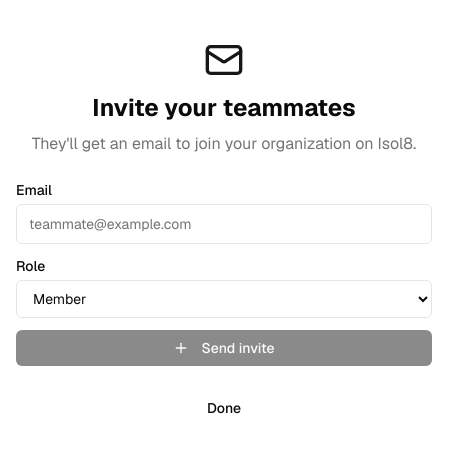
Test: InviteTeammatesStep › surfaces a string detail (Clerk error forwarded by backend)
The image size is (449, 460).
Type "dup@example.com" into the field labelled "Email". click: (224, 224)
box: [16,204,432,244]
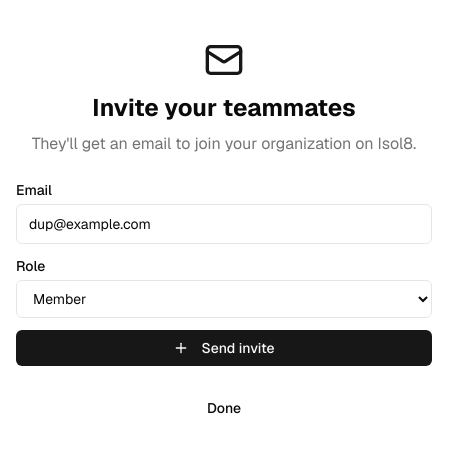
Click the button "Send invite". click: (224, 348)
box: [16,330,432,366]
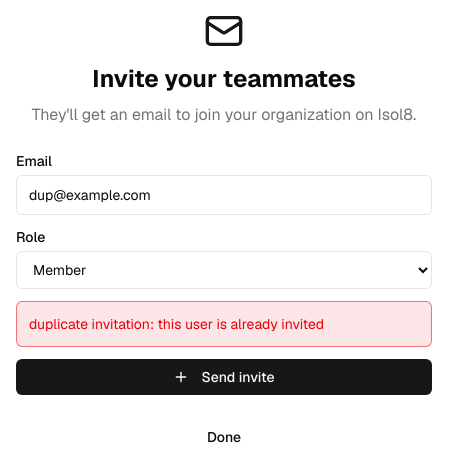
Result: the text "duplicate invitation: this user is already invited" is shown at [16,301,432,347]
